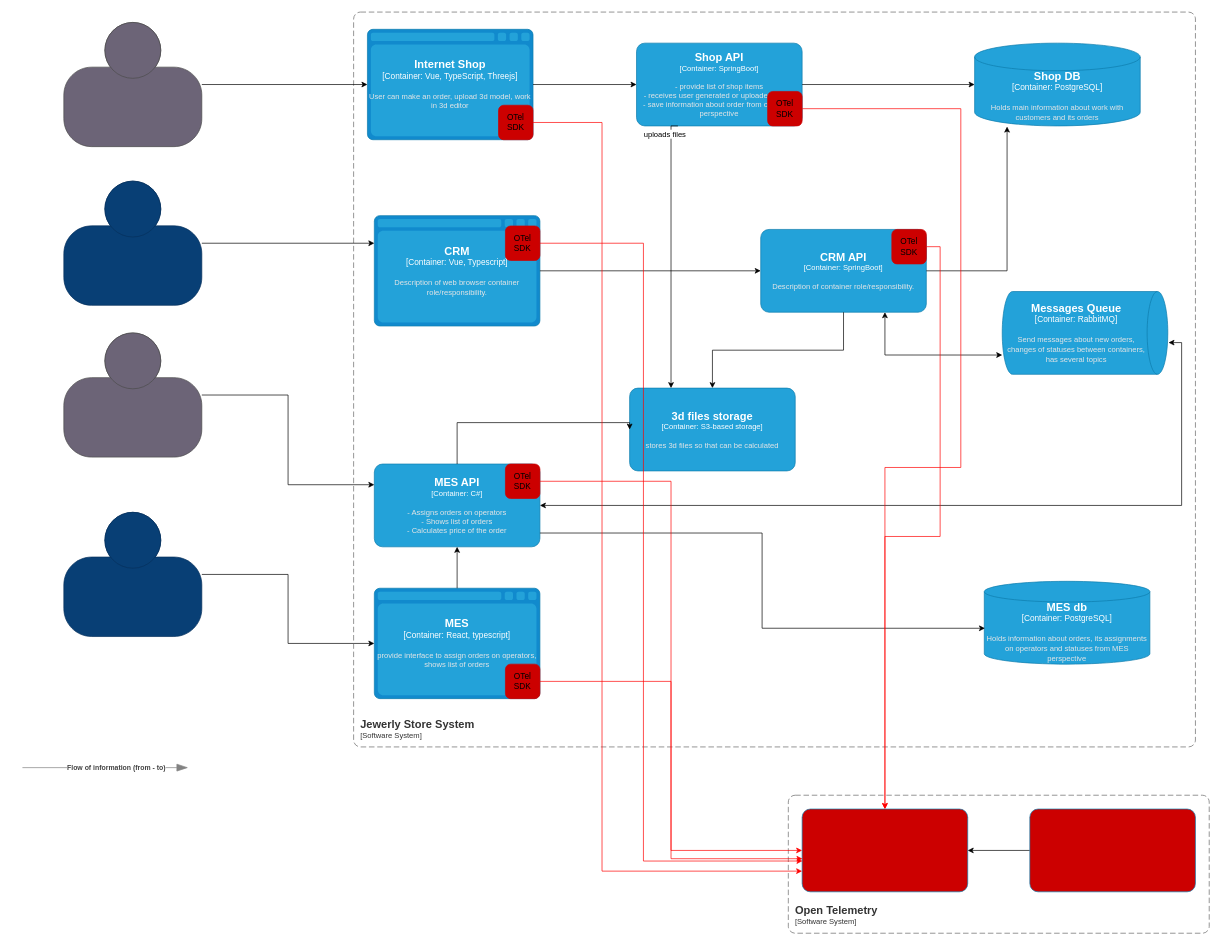
This 1221x945 diagram has some shape labels left out. The shapes that lost their labels are listed below. From the top down, each one's centre as x and y in pixels, then its label:
At (x=132, y=84): "Customer [Person] Description of external person.".
At (x=132, y=242): "Seller [Person] Operates with order, confirms manufacturing for the user".
At (x=132, y=394): "API user [Person] Description of external person.".
At (x=132, y=574): "Operator [Person] Takes order in work, manufactures jewerly".
At (x=884, y=850): "OpenTelemetry Collector [Container: GO] Aggregate tracing".
At (x=1112, y=850): "Jaeger UI [Container: Go] UI for tracing".
